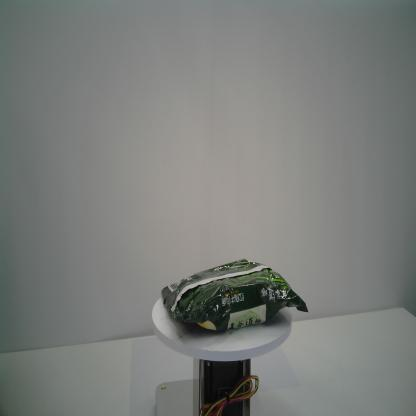Instant Noodles: (161, 258, 310, 332)
